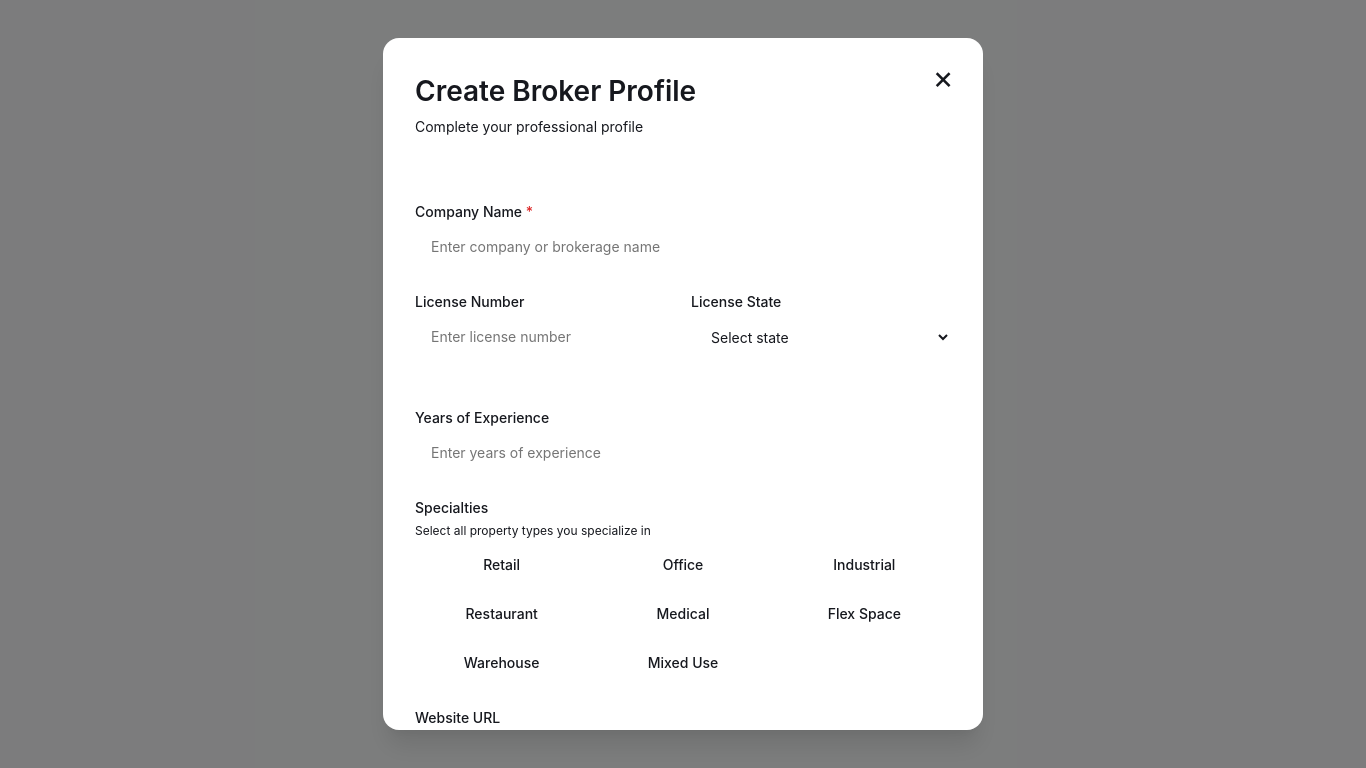
Test: BrokerProfileModal › Create Mode › displays error message on API failure
In the field labelled "Company Name *": (683, 247) [415, 226, 951, 267], type "ABC Realty"
(page scrolled)
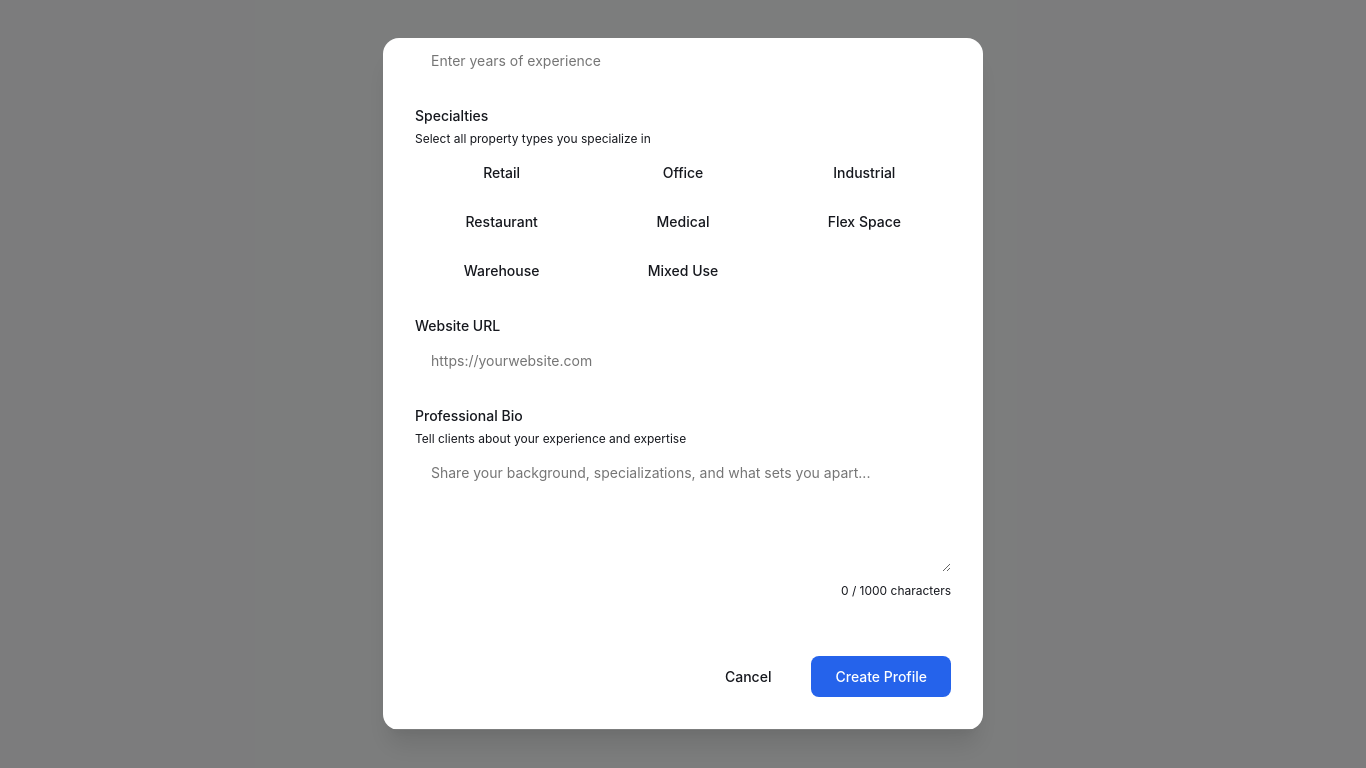
Click the button "Create Profile": click(881, 677) [812, 656, 951, 697]
(page scrolled)
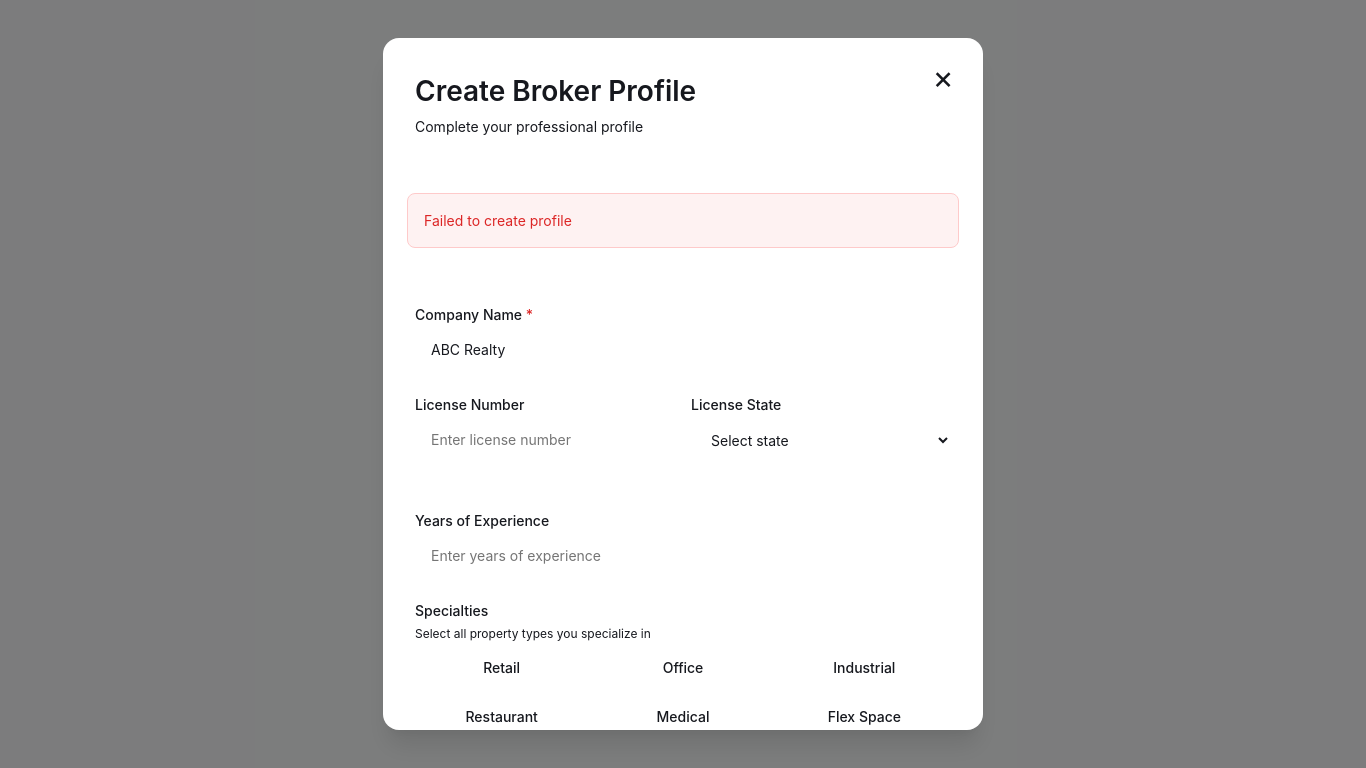
Result: the text "Failed to create profile" is shown at [424, 212, 572, 229]
